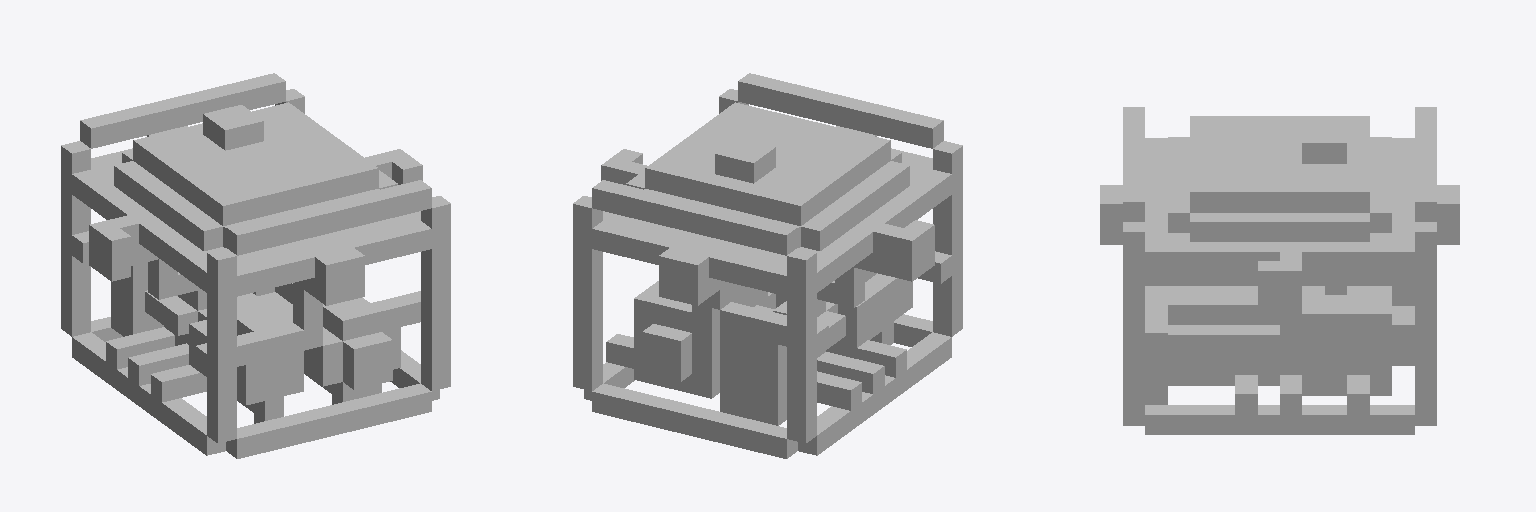
Rendered from power_generators_emergency_generator.obj.
The picture shows the model from 3 angles: view 1: azimuth 30°, elevation 25°; view 2: azimuth 150°, elevation 25°; view 3: azimuth 270°, elevation 25°; orthographic projection.
Visible parts, largest first — view 1: node_0_0_0; view 2: node_0_0_0; view 3: node_0_0_0.
Part boxes in pixels (x1,y1,x2,y2): node_0_0_0: (61,73,450,458); node_0_0_0: (573,73,962,458); node_0_0_0: (1100,107,1459,434).
Bounding box in the file's own units: 1 × 0.75 × 1.